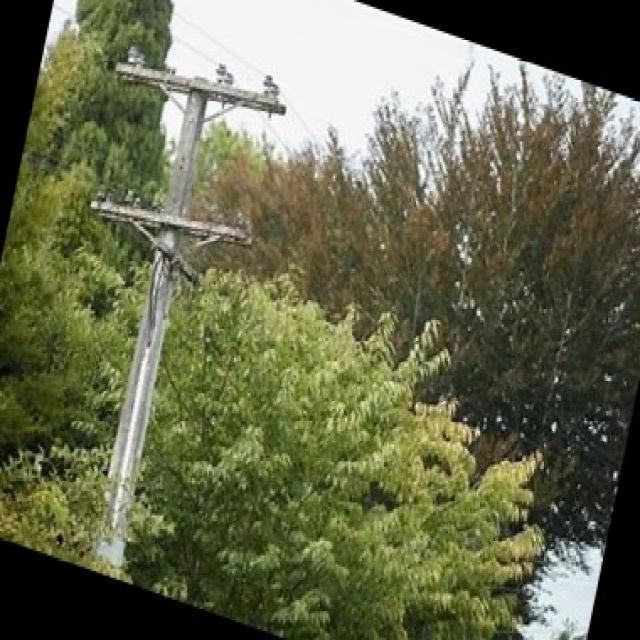utility poles: (96, 28, 269, 568)
